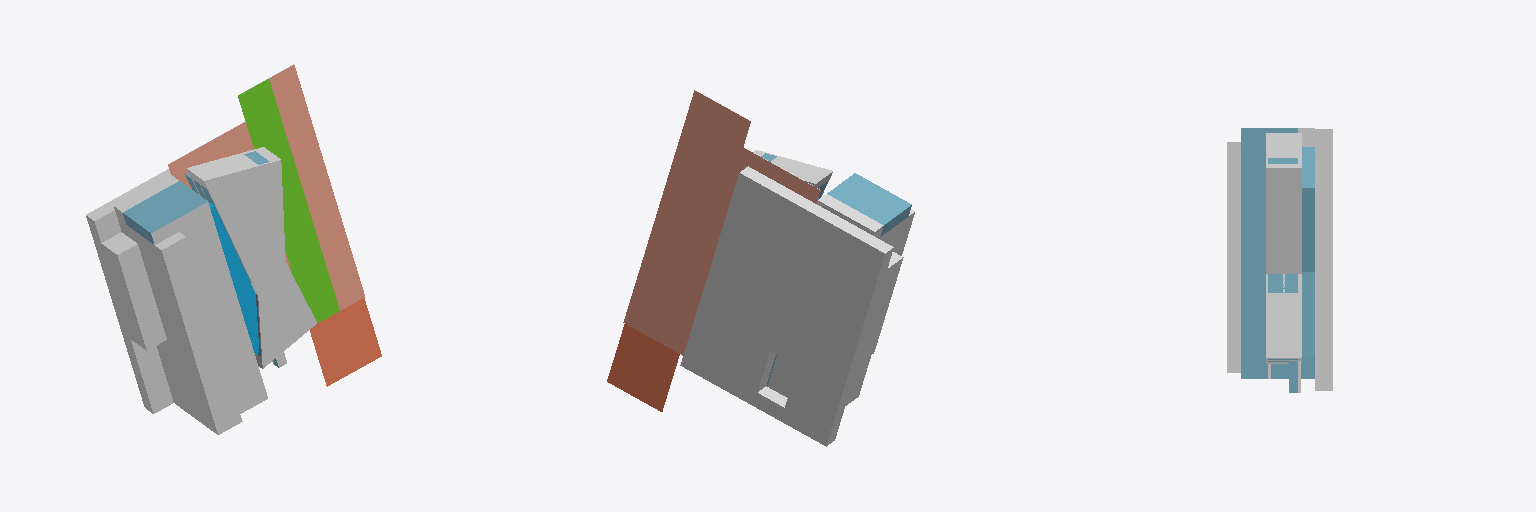
The model's file is opt2-3.obj.
3 renders of one model, left to right at view 1: azimuth 30°, elevation 25°; view 2: azimuth 150°, elevation 25°; view 3: azimuth 270°, elevation 25°, orthographic.
Bounding box in the file's own units: 338 × 371 × 108.